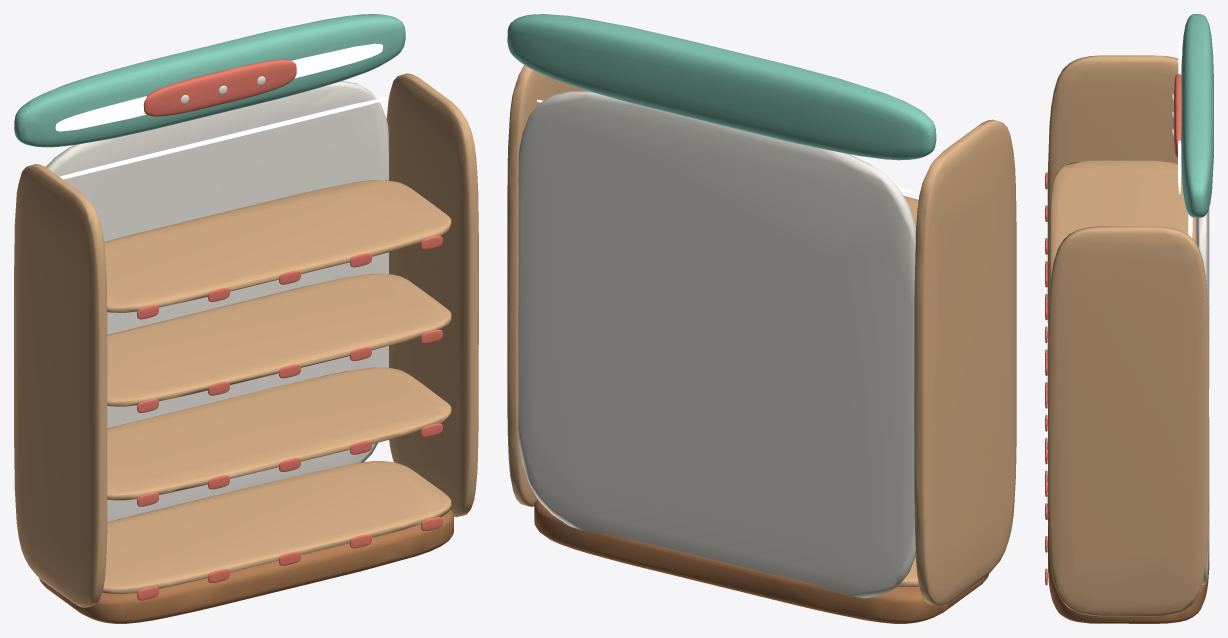
The model's file is vitrina_estante_3.glb.
The picture shows the model from 3 angles, left to right: view 1: azimuth 30°, elevation 25°; view 2: azimuth 150°, elevation 25°; view 3: azimuth 270°, elevation 25°; orthographic projection. The views are drawn at different scales.
Parts seen in each view (by area): view 1: panel, costado, costado.001, repisa.003, repisa, repisa.001, repisa.002, cabecera, base.001, letrero.008, tira de luz, luz repisa.003; view 2: panel, costado, cabecera, base.001, costado.001; view 3: costado.001, costado, repisa.003, cabecera, base.001, panel, letrero.008, tira de luz.
Part boxes in pixels (left/top/right/bottom): panel: left=46, top=81, right=388, bottom=521; costado: left=14, top=164, right=107, bottom=607; costado.001: left=386, top=73, right=478, bottom=517; repisa.003: left=104, top=180, right=451, bottom=312; repisa: left=102, top=461, right=451, bottom=593; repisa.001: left=107, top=367, right=451, bottom=500; repisa.002: left=107, top=273, right=451, bottom=406; cabecera: left=14, top=14, right=405, bottom=147; base.001: left=39, top=509, right=453, bottom=623; letrero.008: left=143, top=59, right=296, bottom=116; tira de luz: left=55, top=43, right=382, bottom=131; luz repisa.003: left=59, top=98, right=386, bottom=179; panel: left=518, top=91, right=915, bottom=598; costado: left=914, top=119, right=1016, bottom=606; cabecera: left=507, top=14, right=936, bottom=160; base.001: left=534, top=499, right=988, bottom=623; costado.001: left=507, top=65, right=588, bottom=506; costado.001: left=1047, top=226, right=1209, bottom=616; costado: left=1047, top=55, right=1181, bottom=326; repisa.003: left=1050, top=160, right=1195, bottom=283; cabecera: left=1181, top=14, right=1213, bottom=217; base.001: left=1047, top=495, right=1209, bottom=623; panel: left=1195, top=208, right=1209, bottom=584; letrero.008: left=1173, top=74, right=1181, bottom=157; tira de luz: left=1178, top=38, right=1181, bottom=193.
Bounding box in the file's own units: 1.78 × 2.14 × 0.71.
